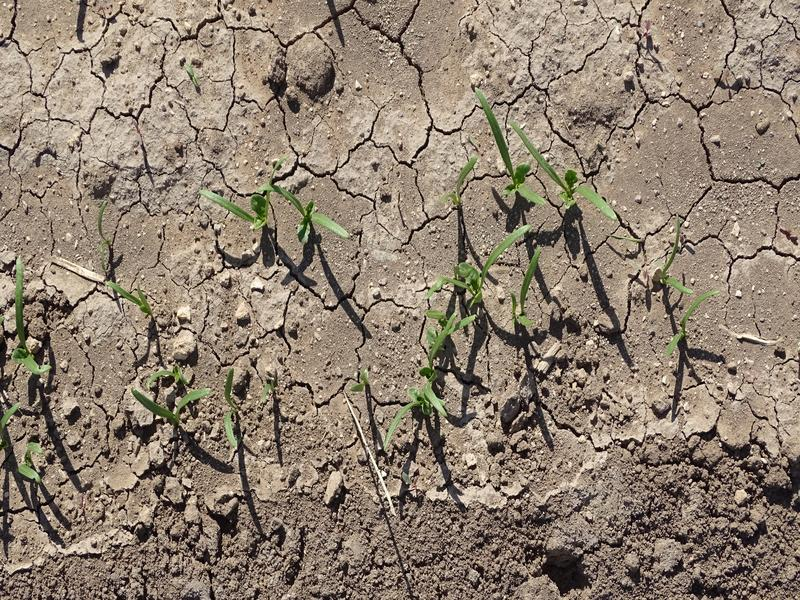Espinaca: (382, 226, 548, 443), (469, 83, 623, 218), (131, 361, 241, 454), (202, 185, 354, 240), (650, 236, 715, 360), (8, 269, 56, 379), (109, 275, 154, 317), (17, 441, 48, 480)
